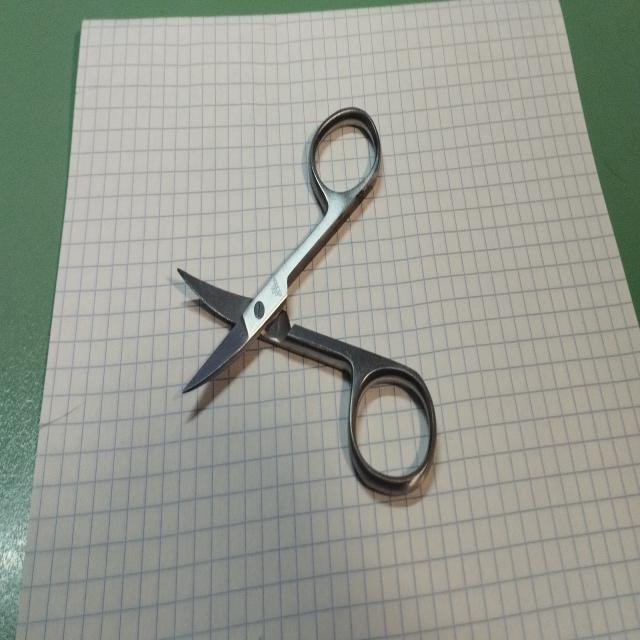tesoura: (175, 98, 441, 508)
